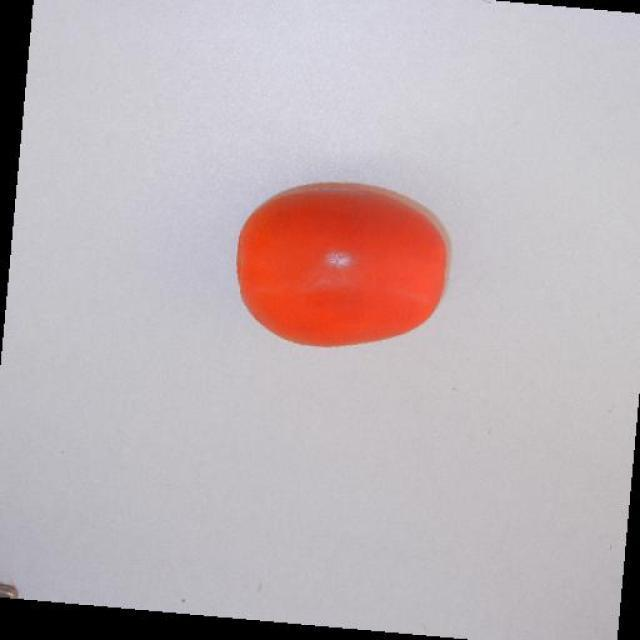tomato: (217, 166, 465, 376)
